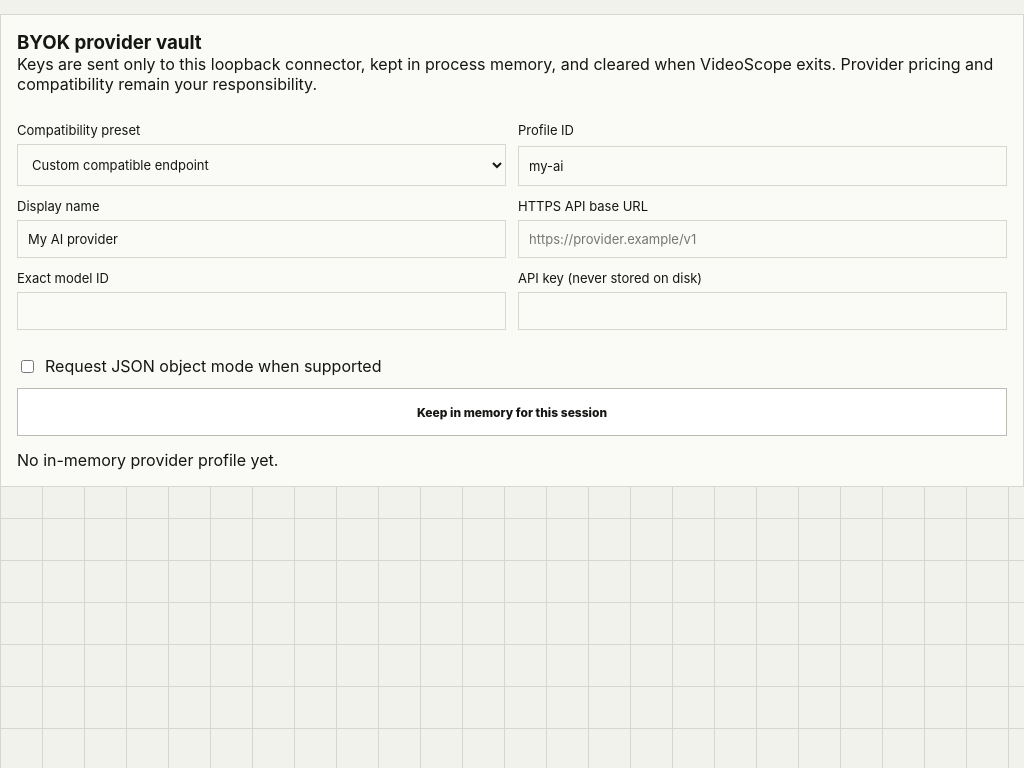
Test case: ProviderSettings › sends a BYOK key once, clears the field, and never persists it
The width and height of the screenshot is (1024, 768).
Step 1. Select "OpenAI compatible API" in the dropdown labelled "Compatibility preset" → (262, 165), box [17,144,506,186]
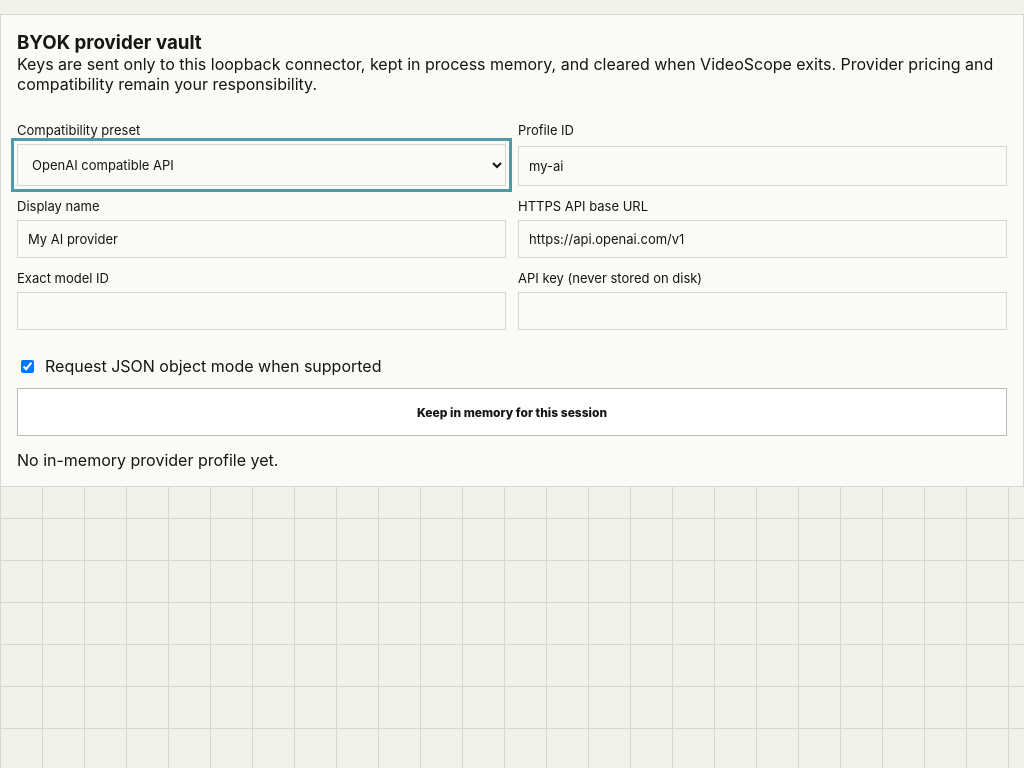
Step 2. Type "gpt-user-model" into the field labelled "Exact model ID" → (262, 311), box [17,292,506,330]
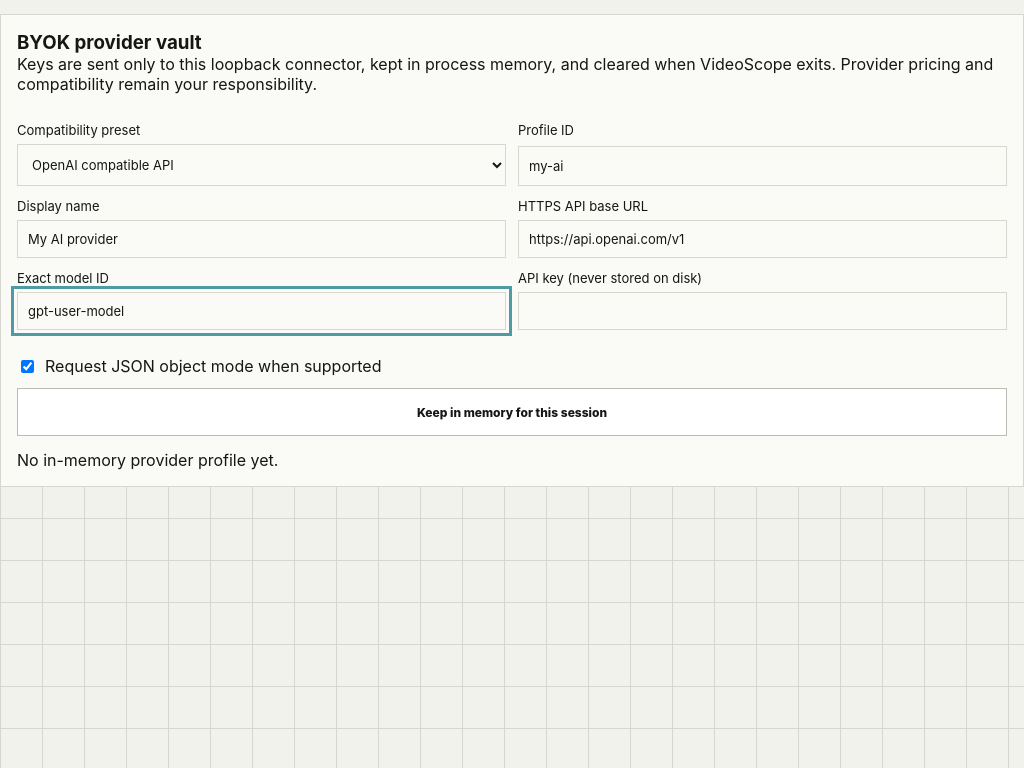
Step 3. Type "user-owned-test-secret" into the password field labelled "API key (never stored on disk)" → (762, 311), box [518,292,1007,330]
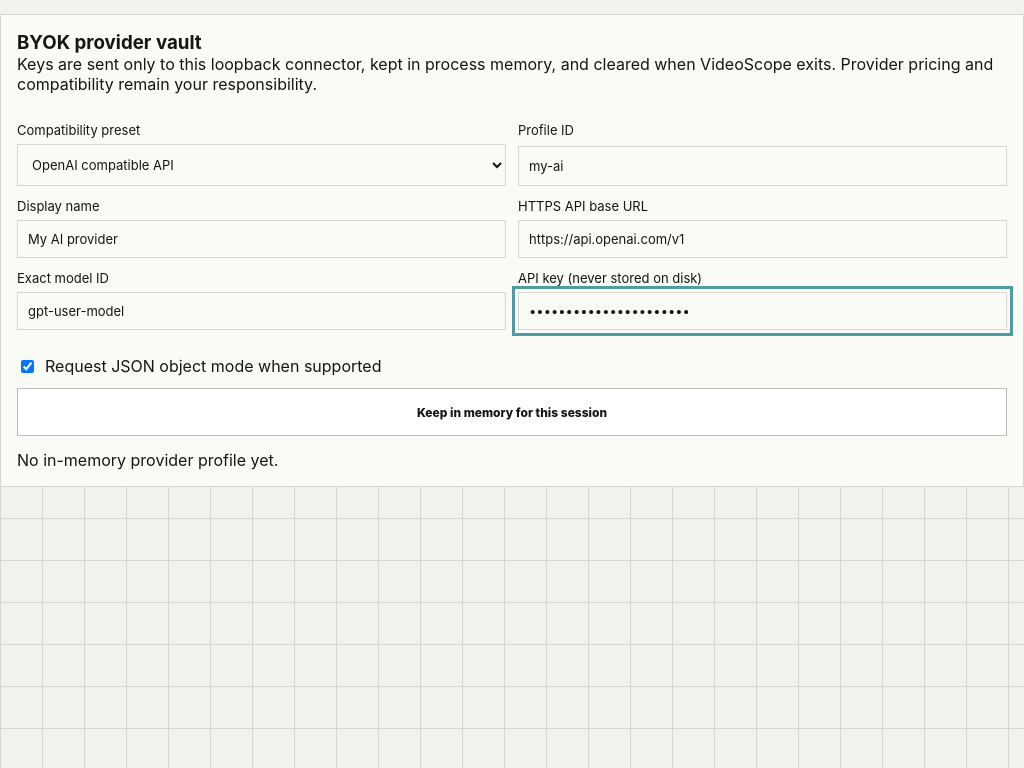
Step 4. Click the button "Keep in memory for this session" → (512, 412), box [17,388,1007,436]
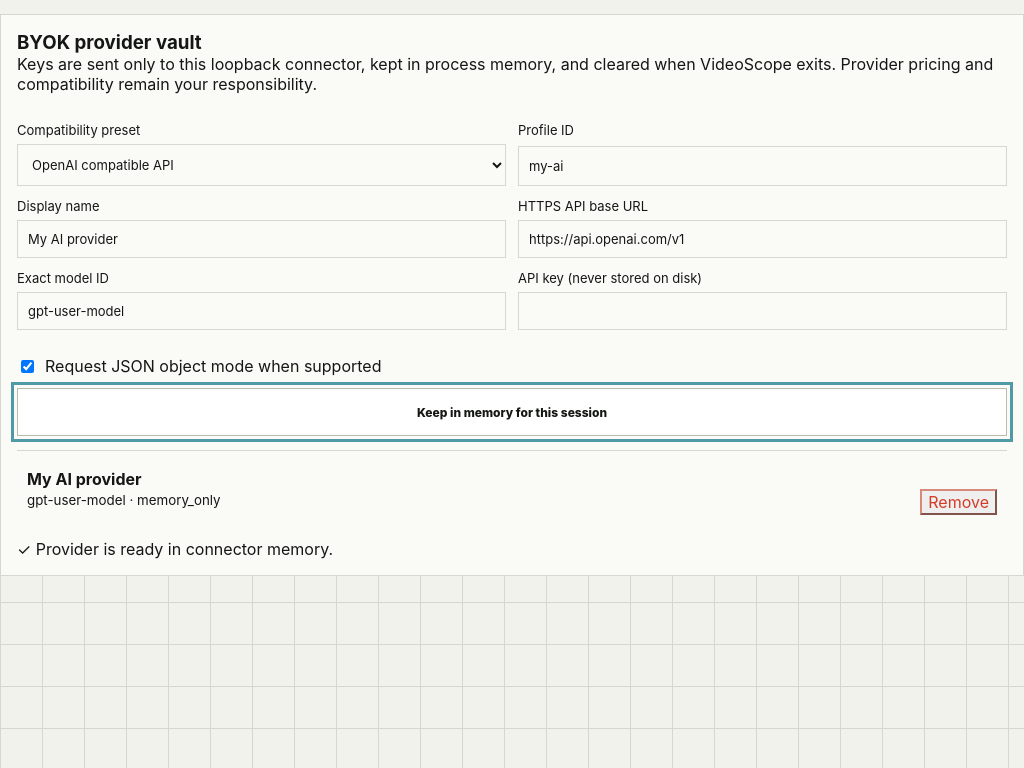
Check: the message shows "Provider is ready in connector memory.", box [36,539,333,559]
Check: the password field labelled "API key (never stored on disk)" is empty, box [518,292,1007,330]
